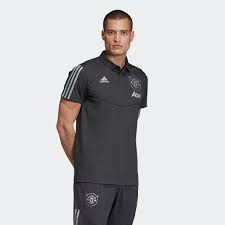C_polo shirt: (62, 53, 153, 178)
